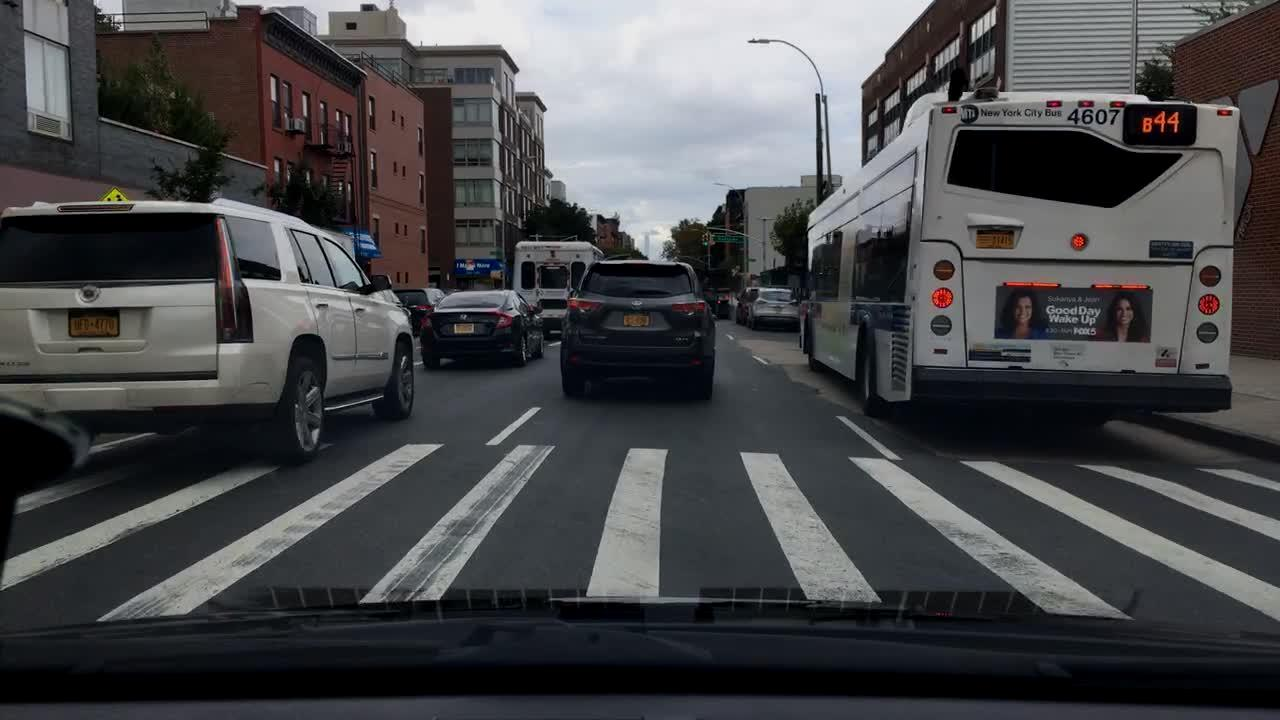Honda: (456, 311, 473, 326)
Toyota: (624, 296, 650, 313)
cadillac: (73, 280, 105, 309)
